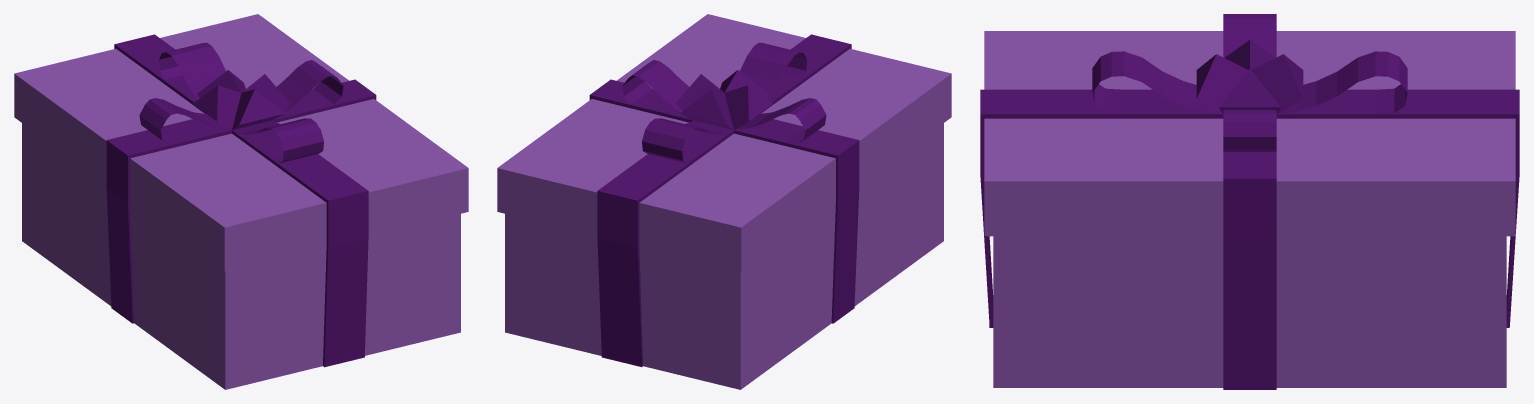
The model's file is Present_Rectangle_Purple.fbx.
3 views of the same model, side by side, from view 1: azimuth 30°, elevation 25°; view 2: azimuth 150°, elevation 25°; view 3: azimuth 270°, elevation 25° (orthographic). The views are drawn at different scales.
Parts seen in each view (by area): view 1: Present; view 2: Present; view 3: Present.
Part boxes in pixels (<box>): Present: <box>14,14,468,389</box>; Present: <box>497,14,951,389</box>; Present: <box>980,14,1519,389</box>.
Bounding box in the file's own units: 164 × 130 × 244.
